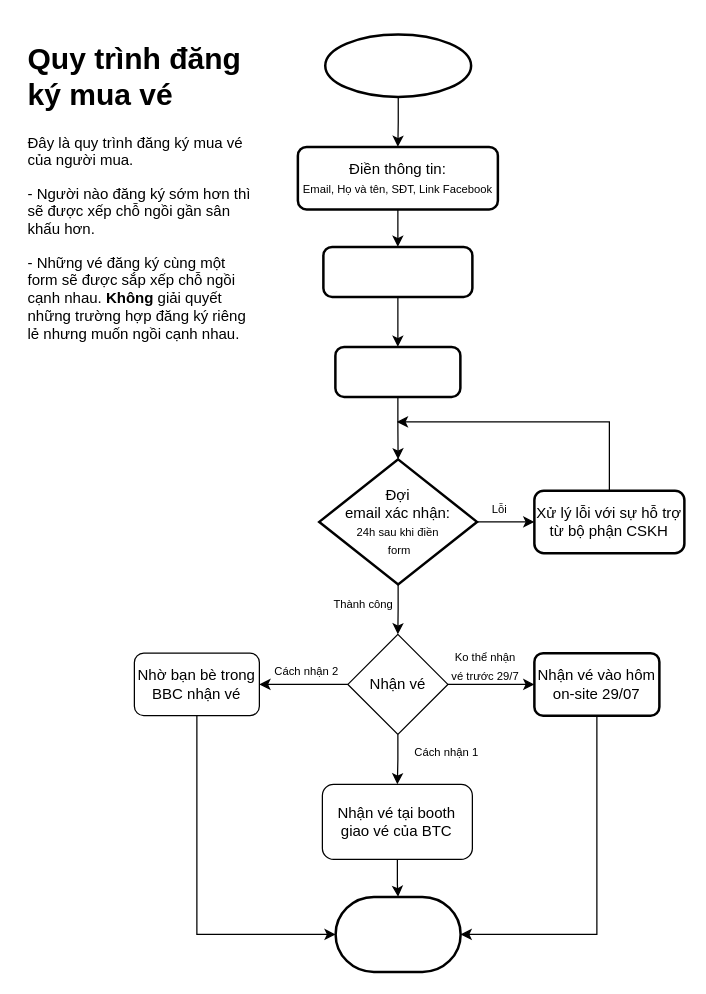
Image size: 706x994. Some labels were removed from this diagram. Each missing label, with the centre of its shape:
"Dùng vé để check-in hôm on-site 29/07" goes at (x=397, y=933).
"Thanh toán: Internet Banking" goes at (x=397, y=371).
"Điền số lượng vé: Standard, Premium" goes at (x=397, y=271).
"Đăng ký mua vé: Google Form" goes at (x=397, y=65).
